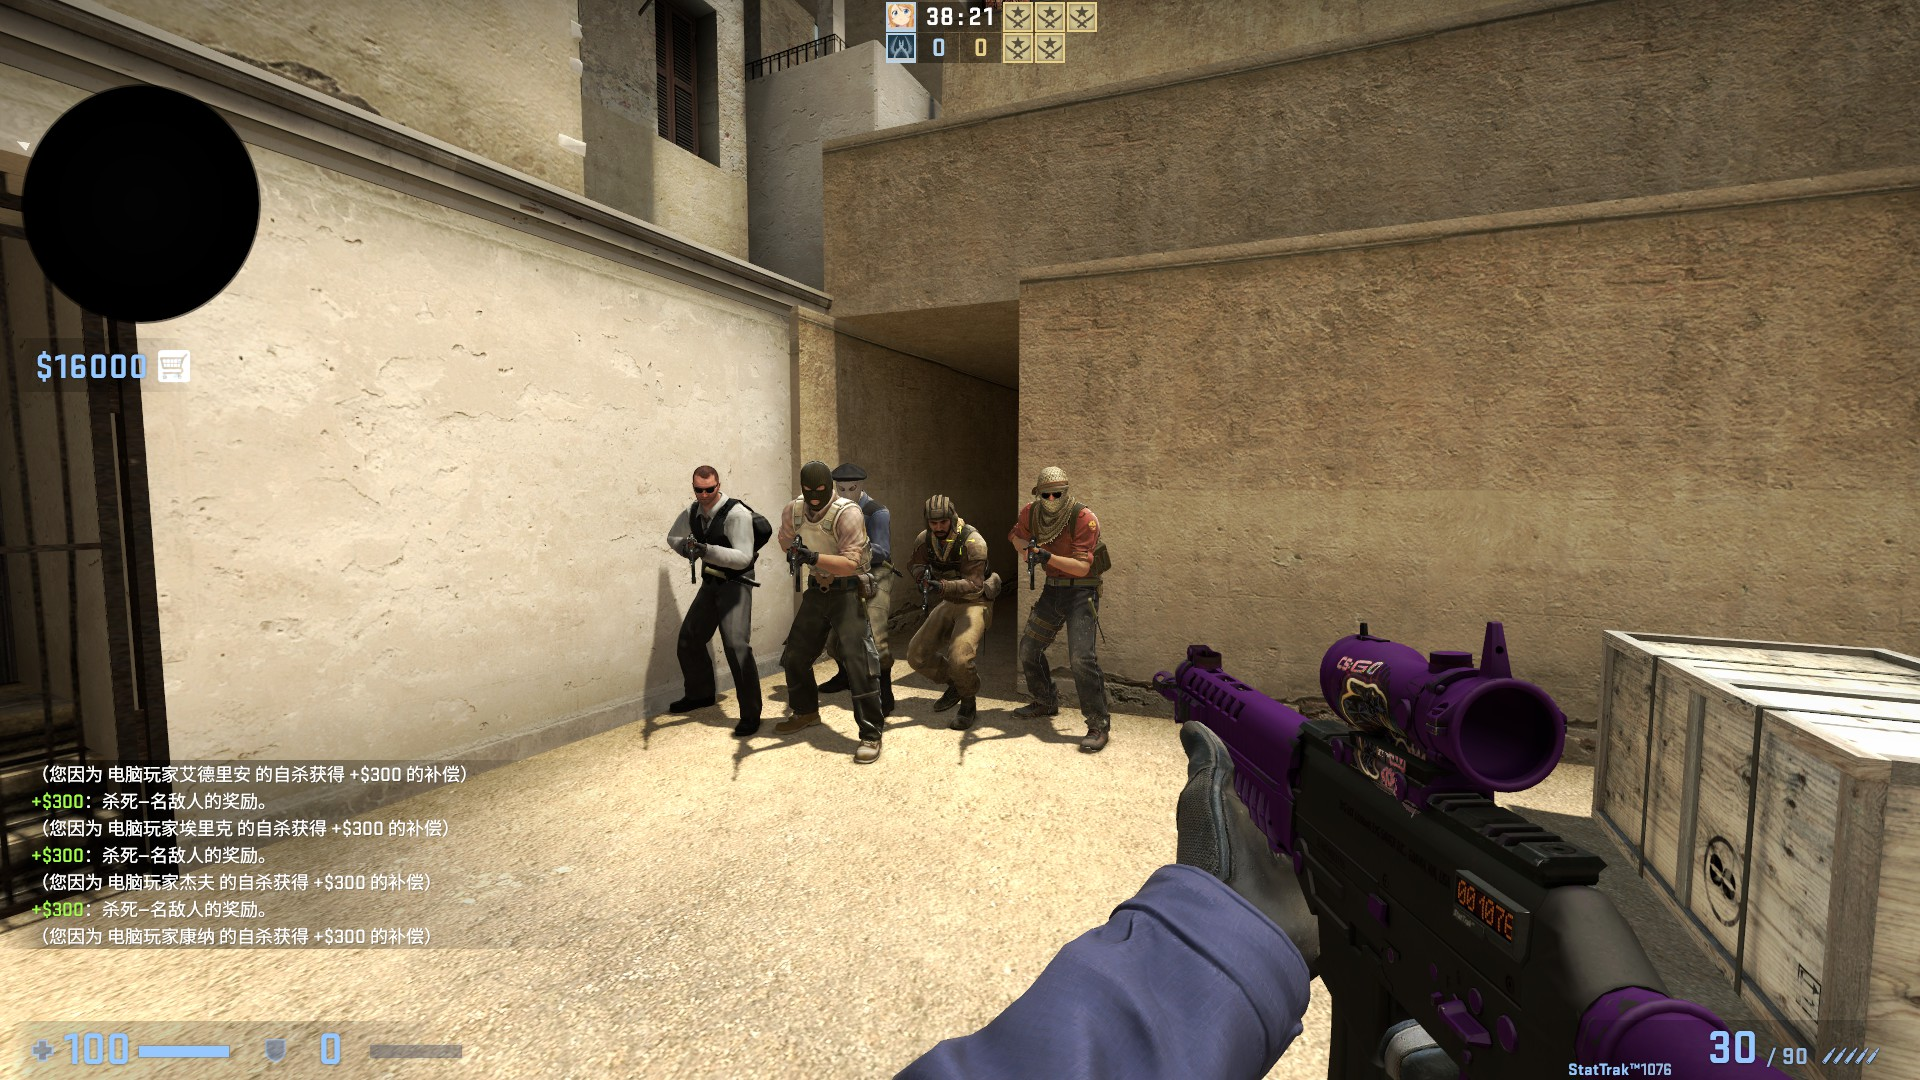head: (797, 460, 831, 510), (831, 462, 868, 504), (1034, 465, 1065, 511), (922, 495, 955, 535), (690, 463, 719, 503)
